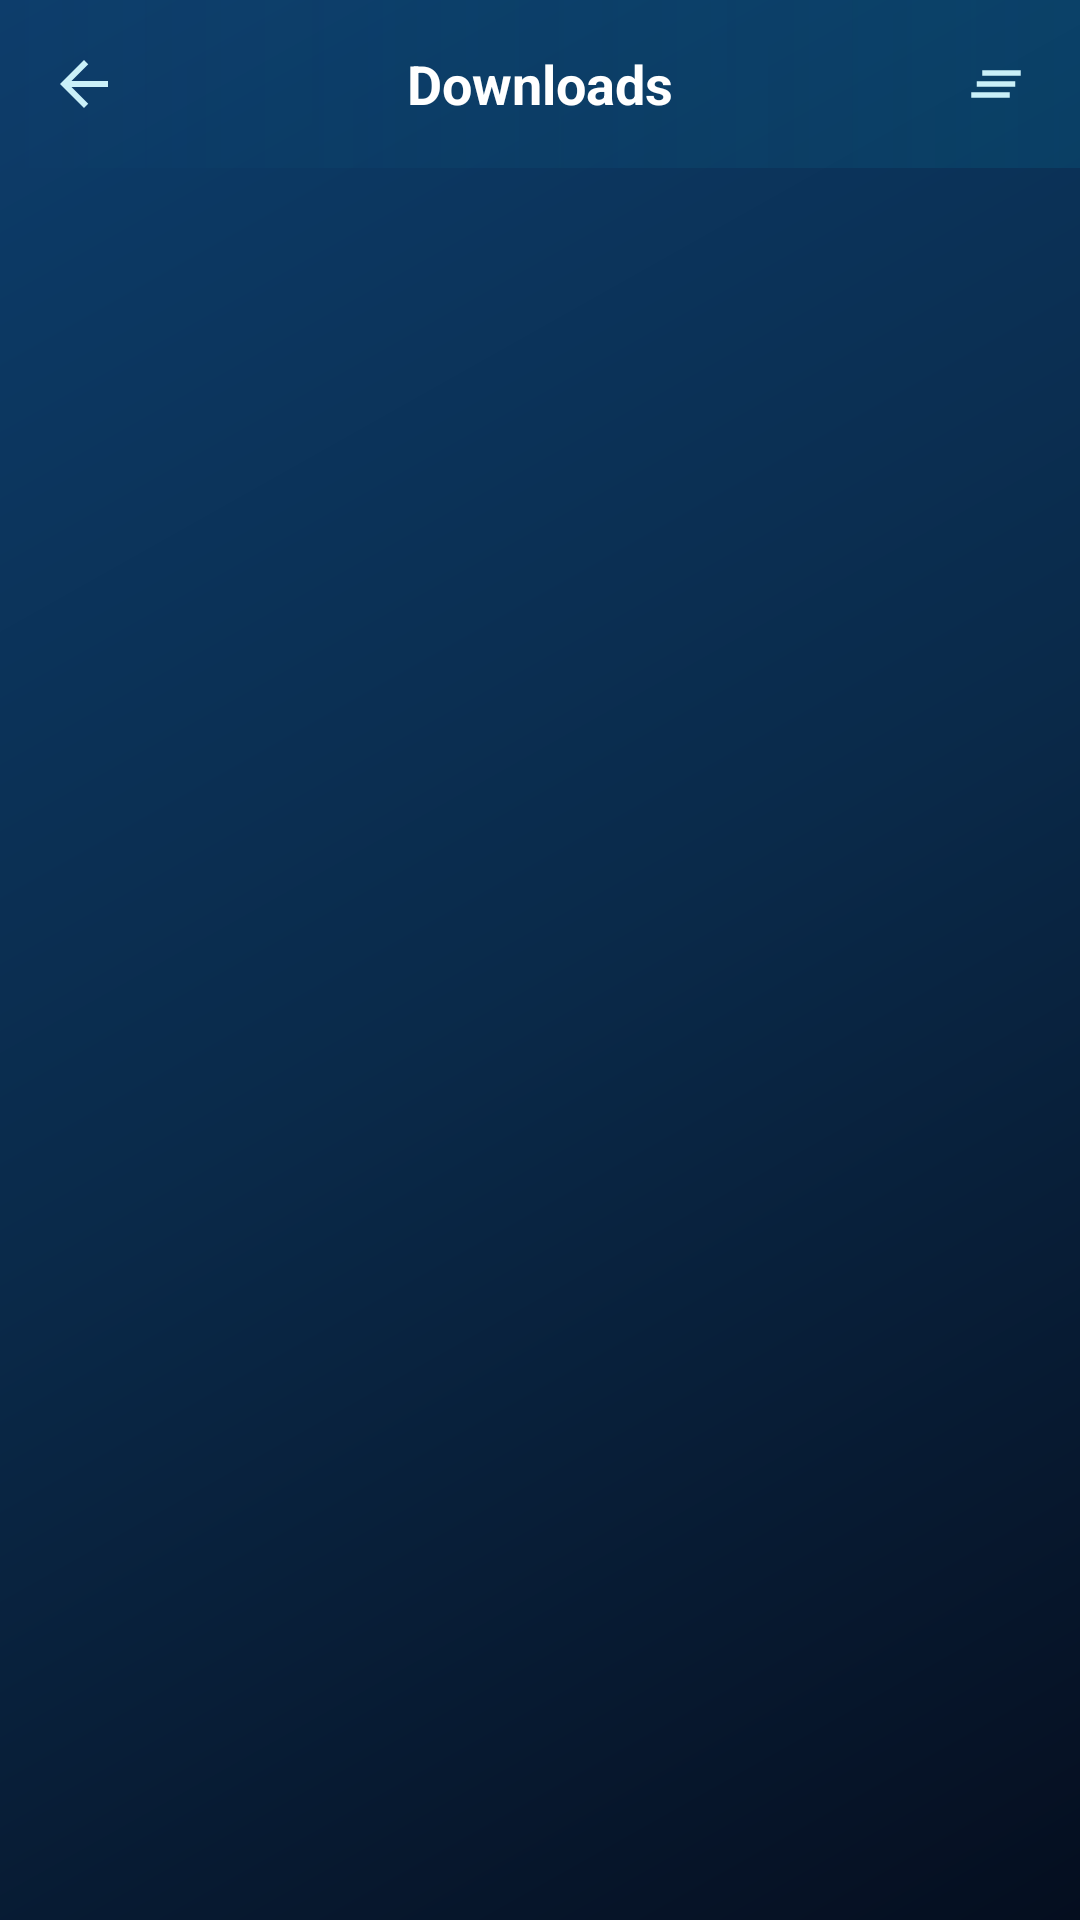

Where to tap for icons on this 1080 x 1920 app screen, as (x=x, y=y):
Back: (x=84, y=84)
Clear All: (x=996, y=84)
